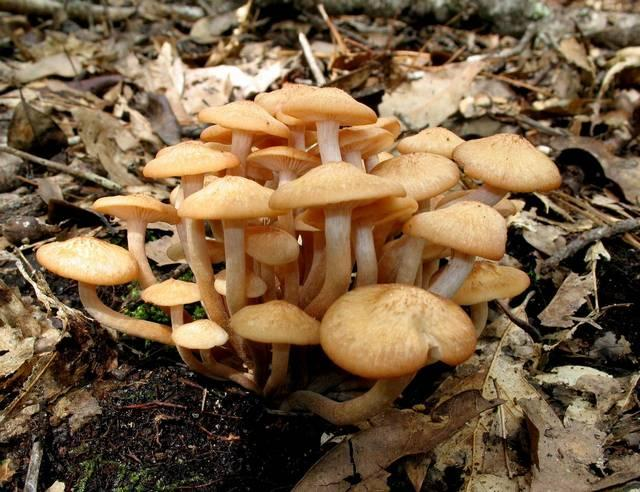Edible Mushroom: (35, 83, 562, 425)
